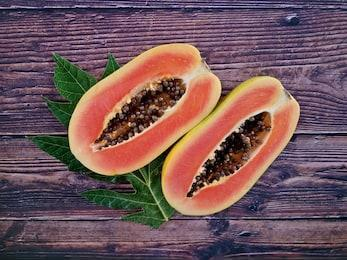papaya: (68, 45, 221, 175), (162, 76, 300, 217)
